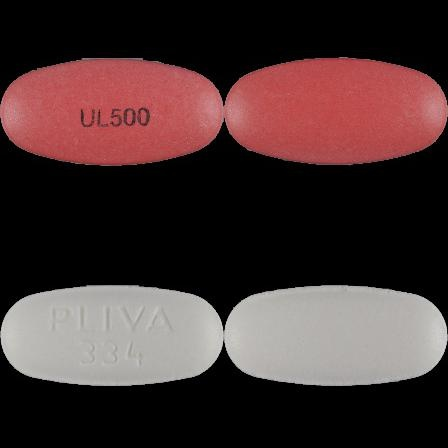58118-0042: (0, 0, 224, 224)
